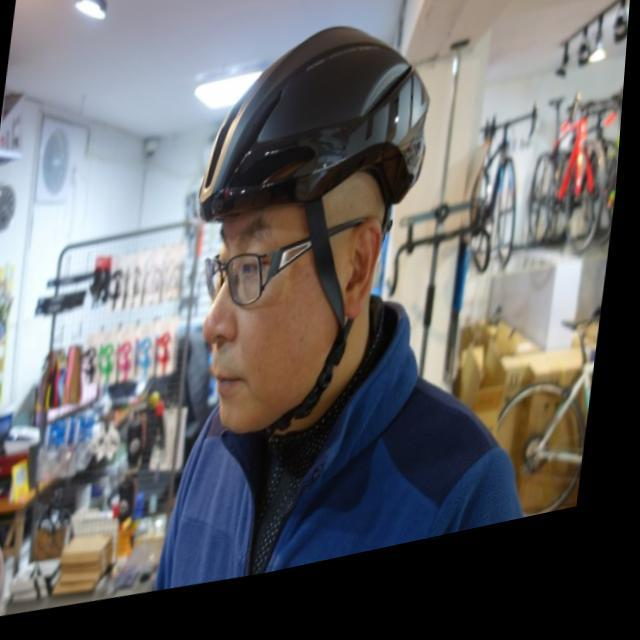Helmet: (195, 23, 431, 220)
Nonhelmet: (187, 22, 436, 438)
